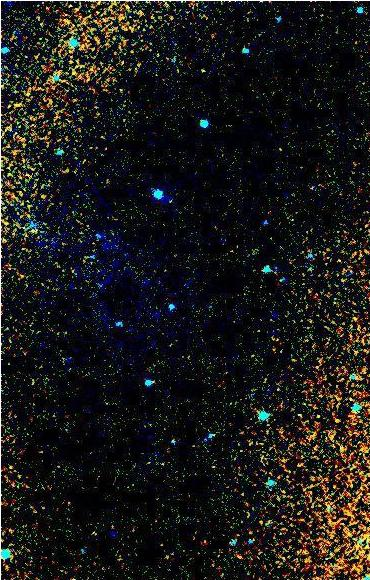star: (183, 57, 213, 87)
